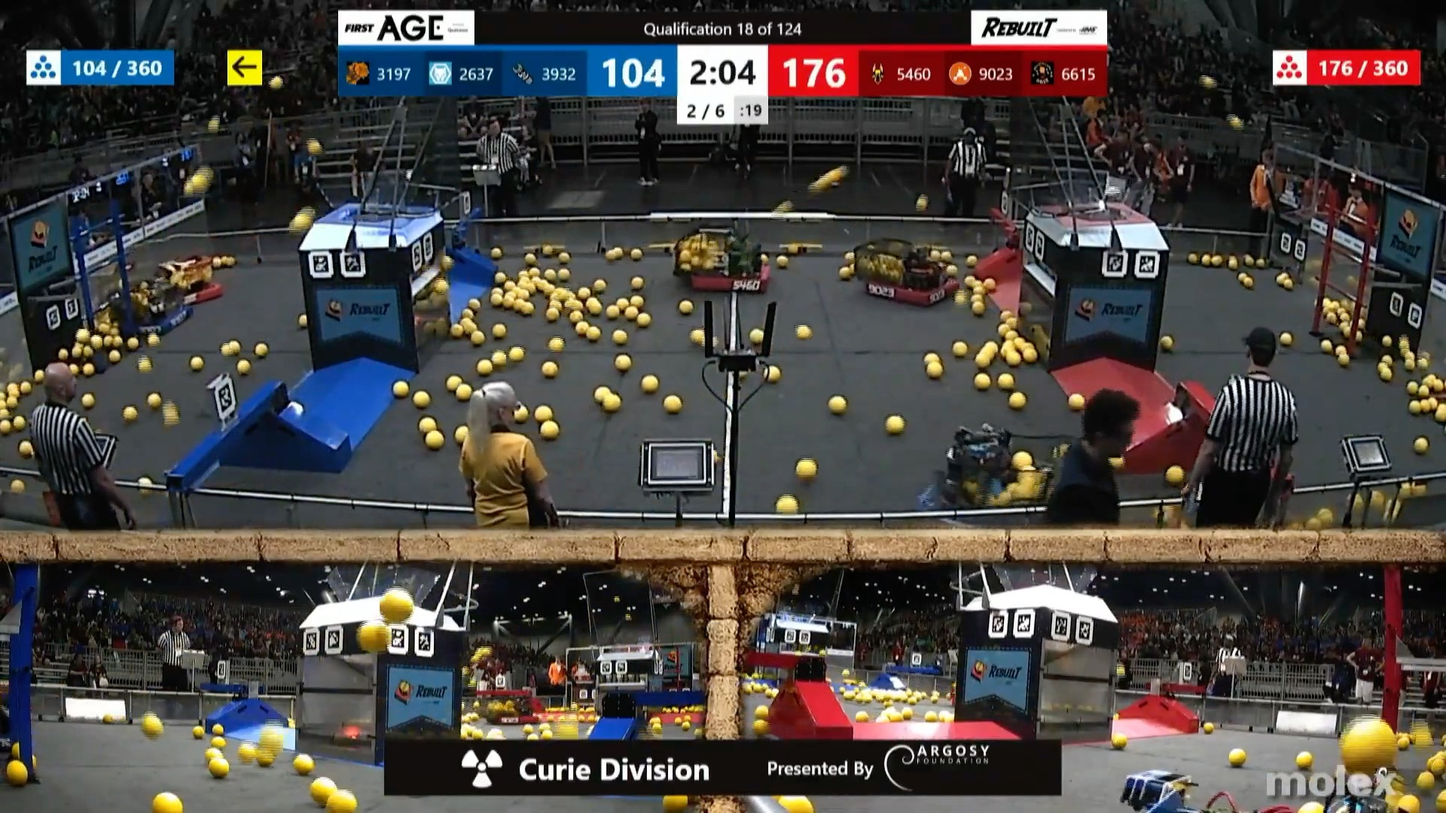bumpers: (857, 271, 966, 310), (105, 300, 206, 340), (682, 263, 777, 295), (154, 275, 227, 306)
